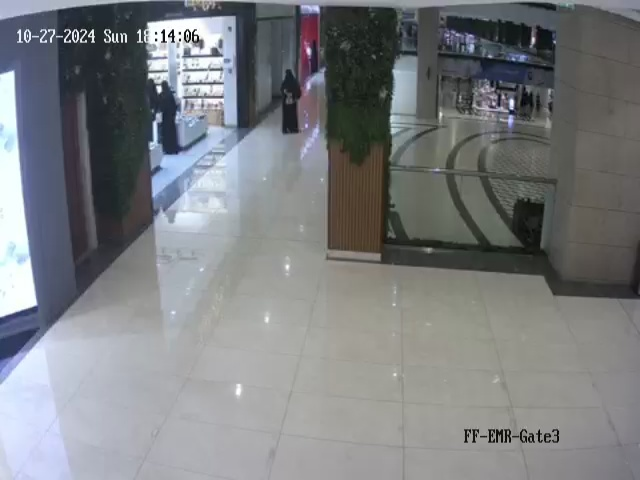female: (158, 80, 179, 155), (280, 69, 302, 135)
